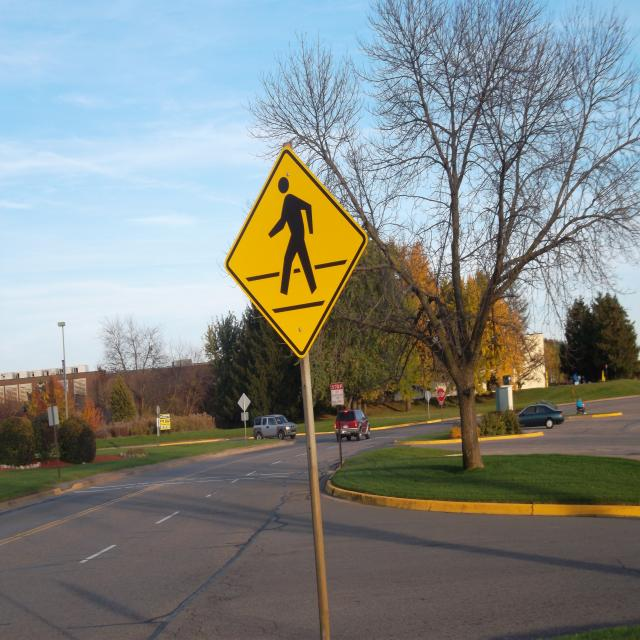warning: (225, 143, 372, 364)
